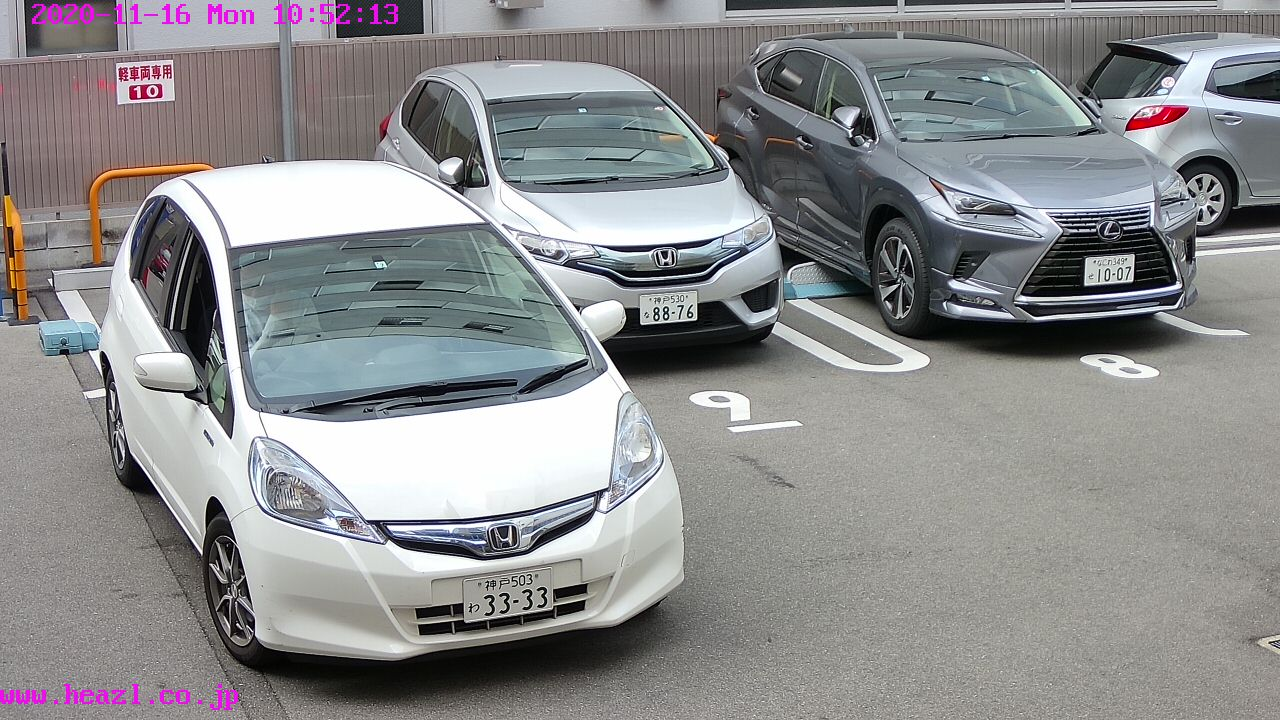number_plate: (463, 573, 555, 615), (642, 292, 699, 323), (1085, 255, 1137, 284)
